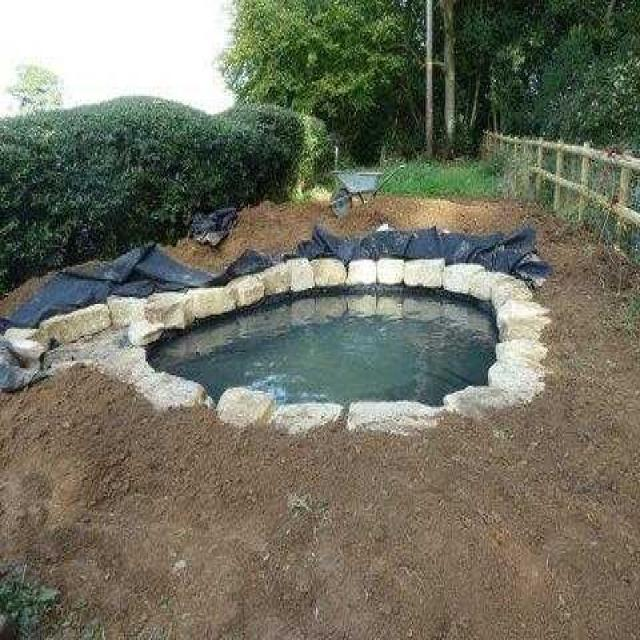Ponds: (92, 261, 549, 435)
